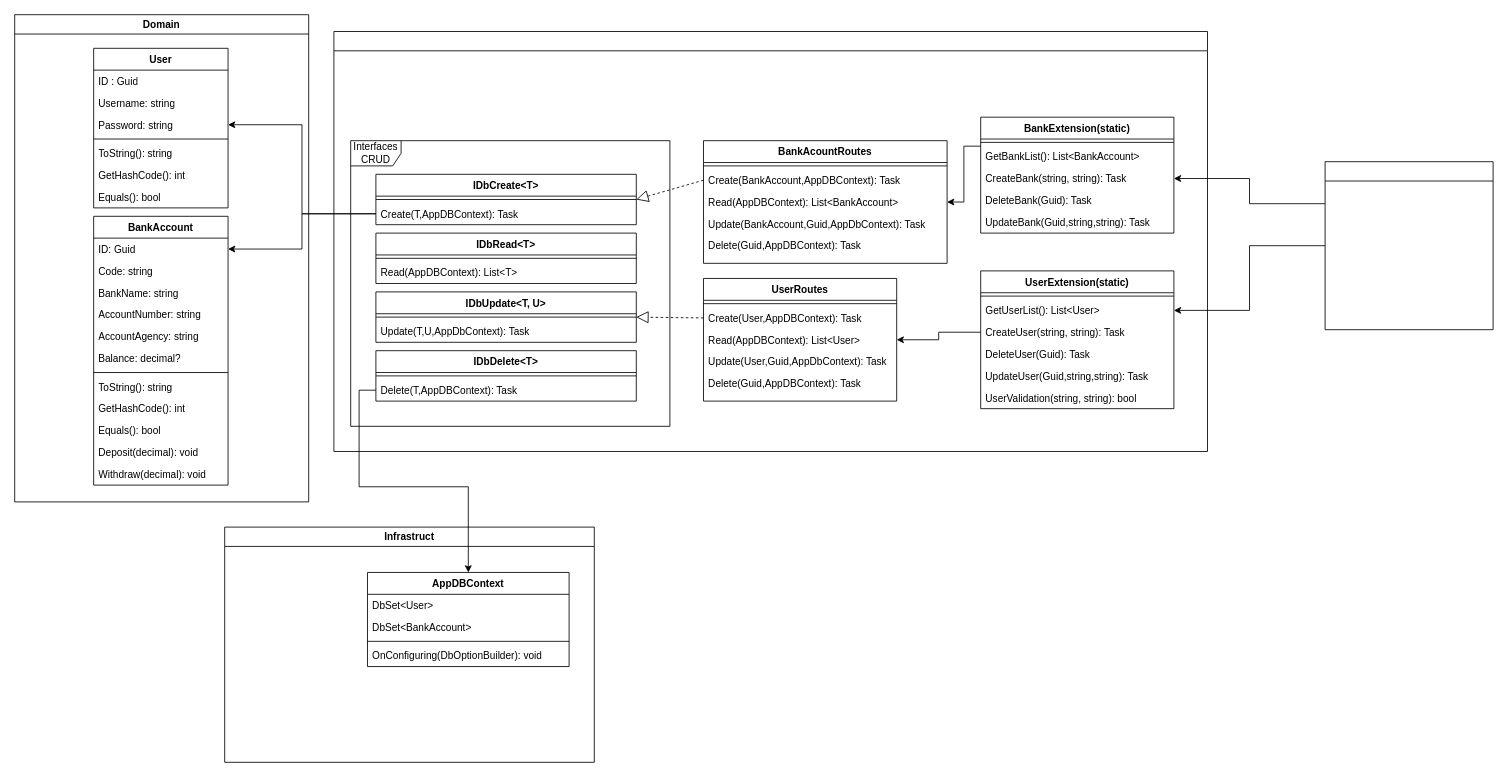
Some shapes in this 1508 by 777 pixel diagram are drawn without their labels. The centre of each missing label's shape, as x and y in pixels:
"Aplication" belongs at point (770, 241).
"UI" belongs at point (1408, 245).
